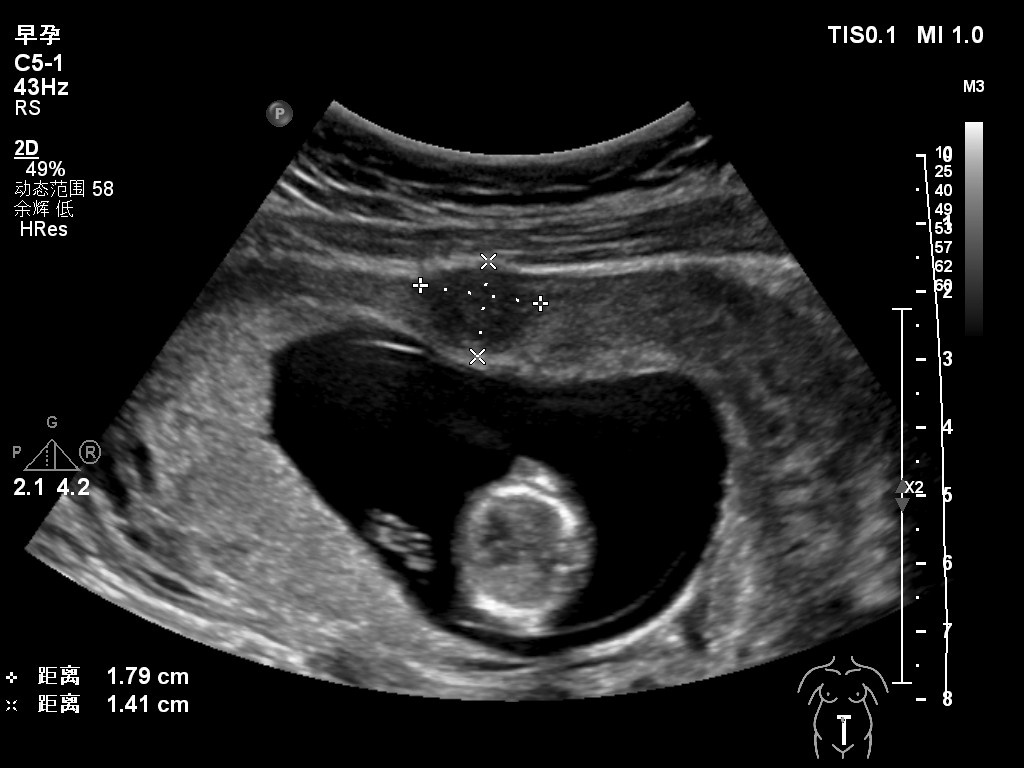肌瘤: (429, 274, 532, 350)
